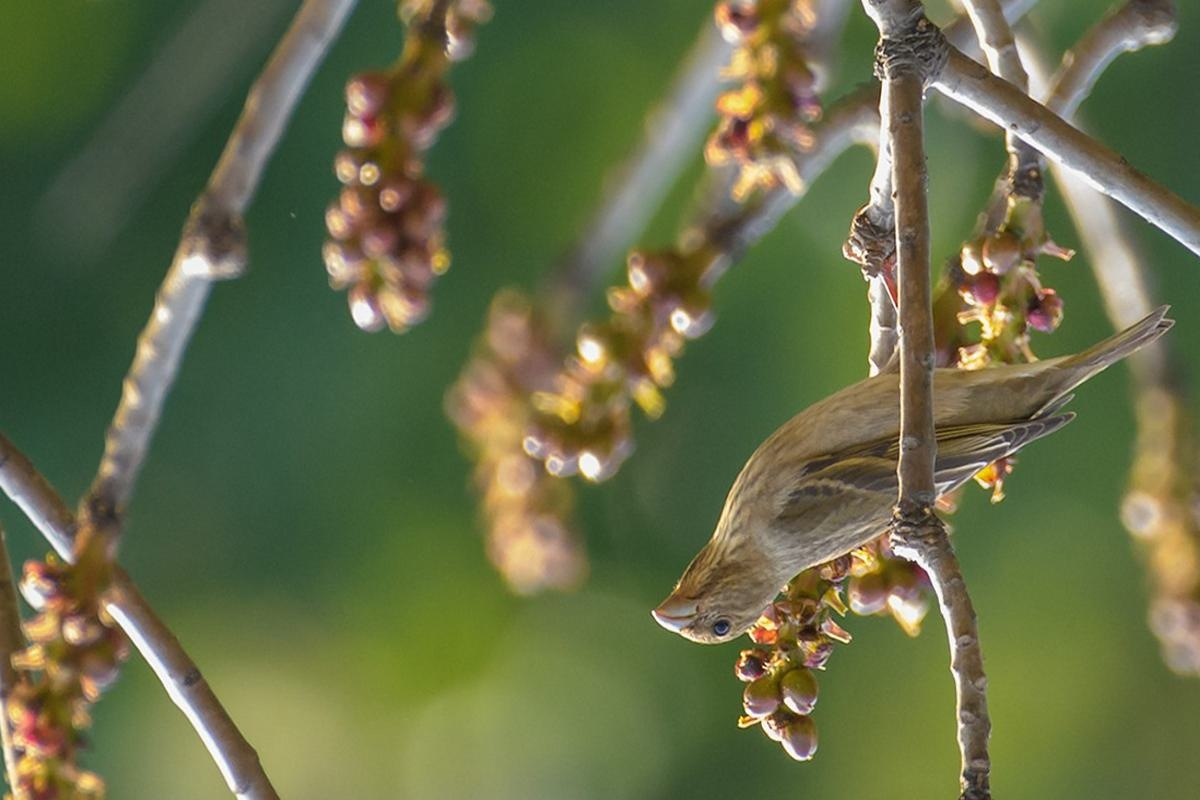rosefinch: (625, 331, 1150, 644)
